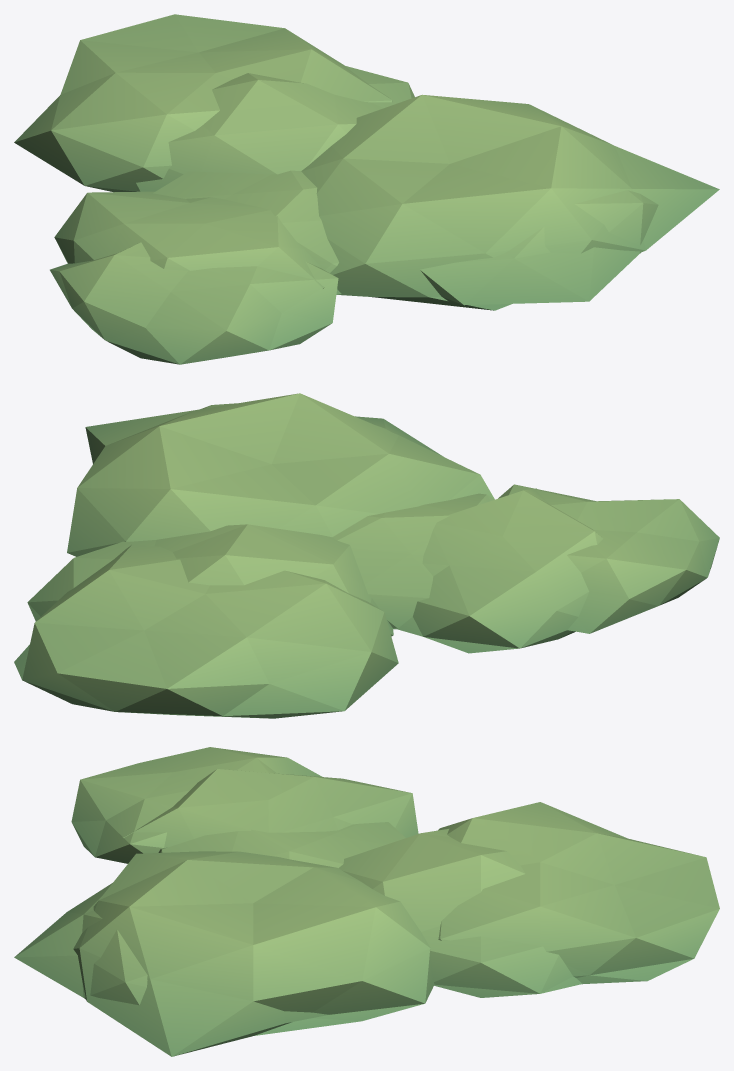
Rendered from SM_GR_Moss_B.fbx.
3 renders of one model, top to bottom at view 1: azimuth 30°, elevation 25°; view 2: azimuth 150°, elevation 25°; view 3: azimuth 270°, elevation 25°, orthographic. The views are drawn at different scales.
Visible parts, largest first — view 1: SM_GR_Moss_B; view 2: SM_GR_Moss_B; view 3: SM_GR_Moss_B.
Boxes of the visible parts, x1=… form: SM_GR_Moss_B: x1=14, y1=14, x2=719, y2=364; SM_GR_Moss_B: x1=14, y1=393, x2=719, y2=718; SM_GR_Moss_B: x1=14, y1=747, x2=719, y2=1056.
Bounding box in the file's own units: 84.89 × 9.5 × 88.05.
